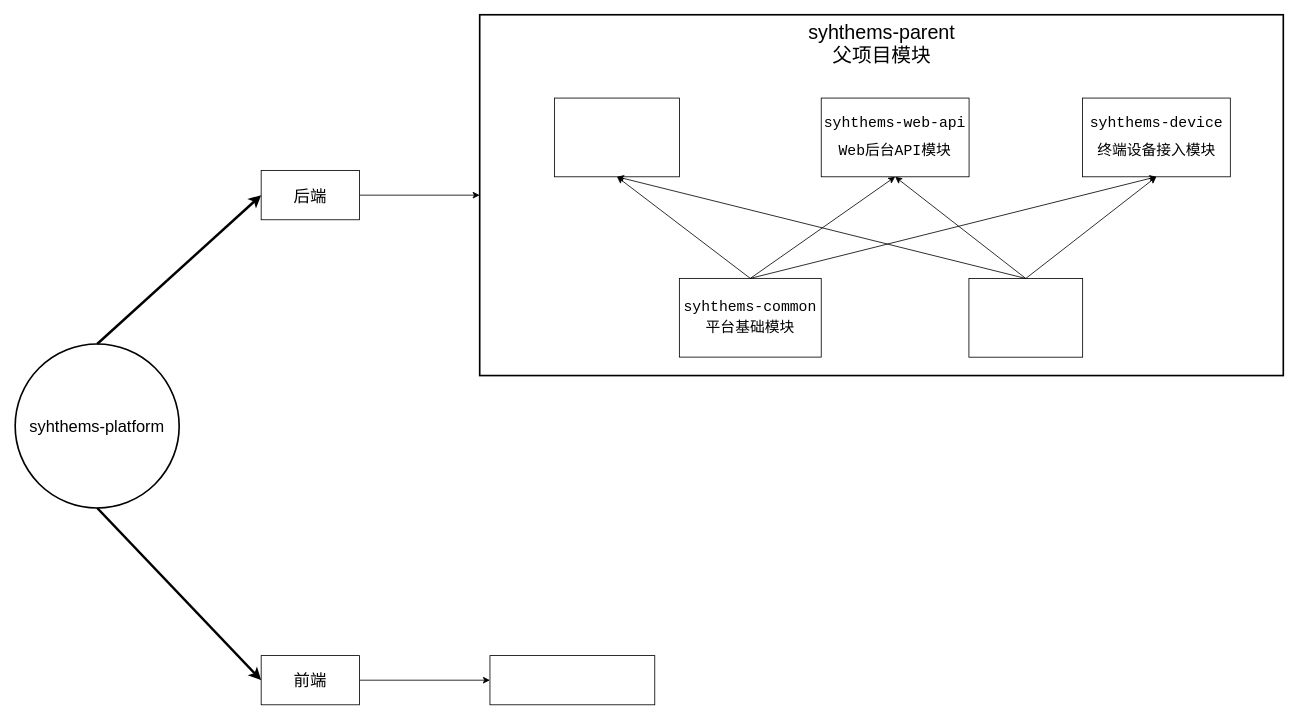
Image size: 1298x719. Some labels were removed from this diagram. Here are the shapes that lost their labels. From the top down, the box of each, then its label:
(554, 97, 680, 177): syhthems-sso 单点登录模块
(968, 278, 1083, 357): syhthems-db 数据访问模块
(489, 655, 655, 705): syhthems-web Web模块
